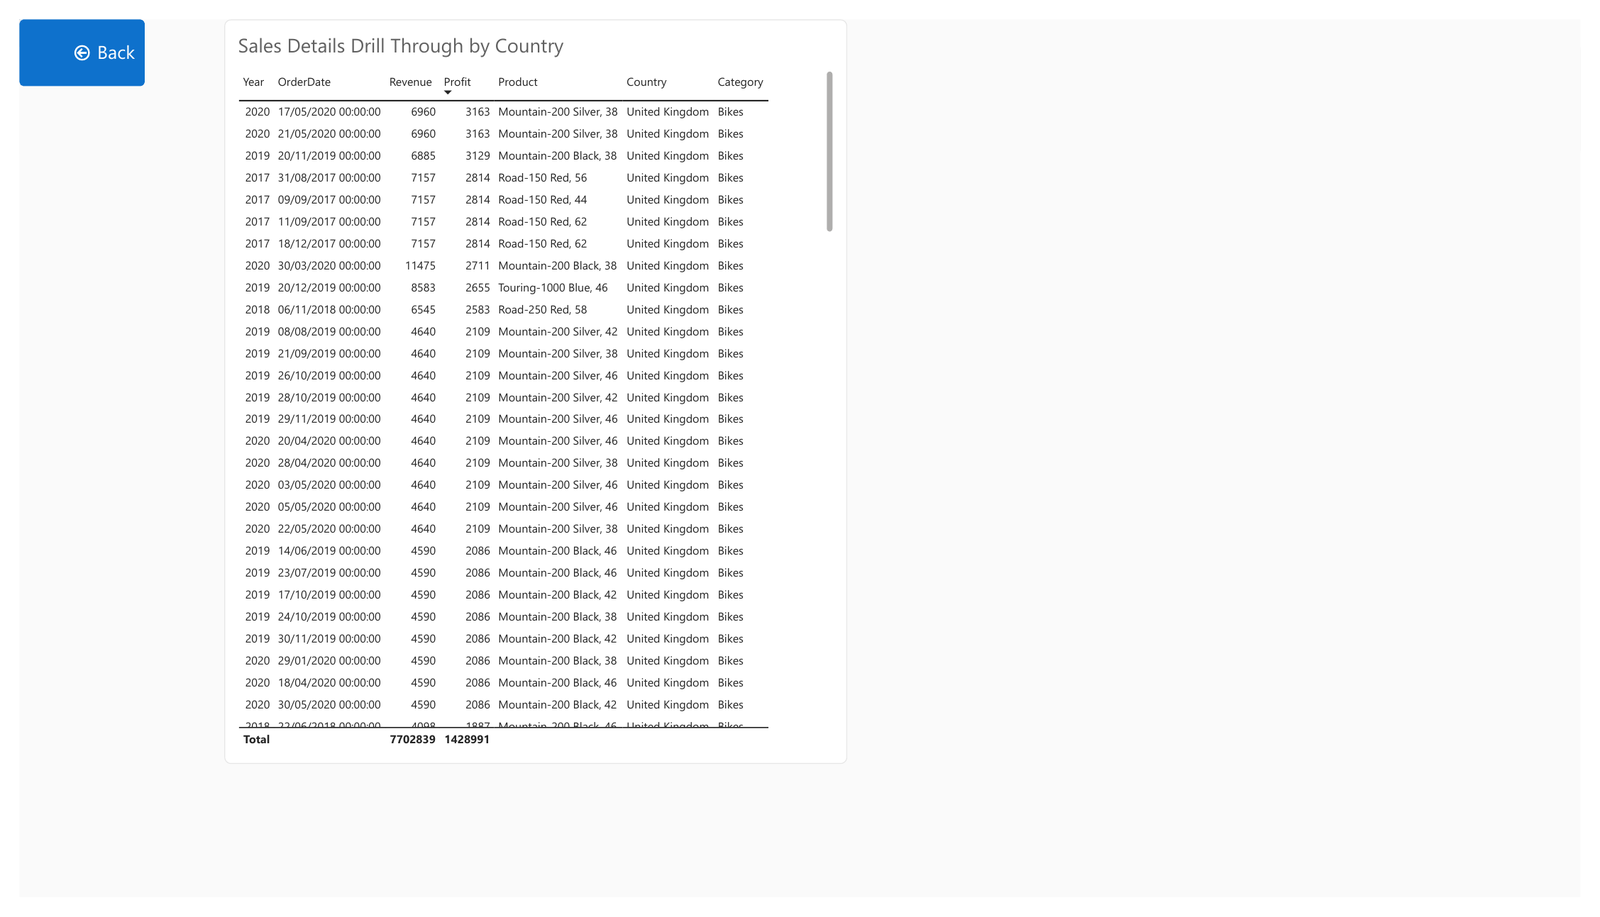

The page's visual inventory and layout, read from the dashboard file:
{"tool":"powerbi","page":{"name":"Sales Details","canvas":[1920,1080],"ordinal":2},"visuals":[{"type":"tableEx","fields":{"Values":["DimDate.Date.Variation.Date Hierarchy.Year","Fact_Sales.OrderDate","_measure.Revenue","_measure.Profit","Dim_Product.Product","Dim_Territory.Country","Dim_Product.Category"]},"box":[252,0,766,916],"z":0},{"type":"actionButton","box":[0,0,154,82],"z":1000}]}

Visuals, with their boxes in screenshot pixels (x1, y1, x2, y2), scaled from the page's 1920x1080 canvas onto the 1600x917 screenshot:
tableEx - DimDate.Date.Variation.Date Hierarchy.Year x Fact_Sales.OrderDate: [210,0,848,778]
actionButton: [0,0,128,70]
